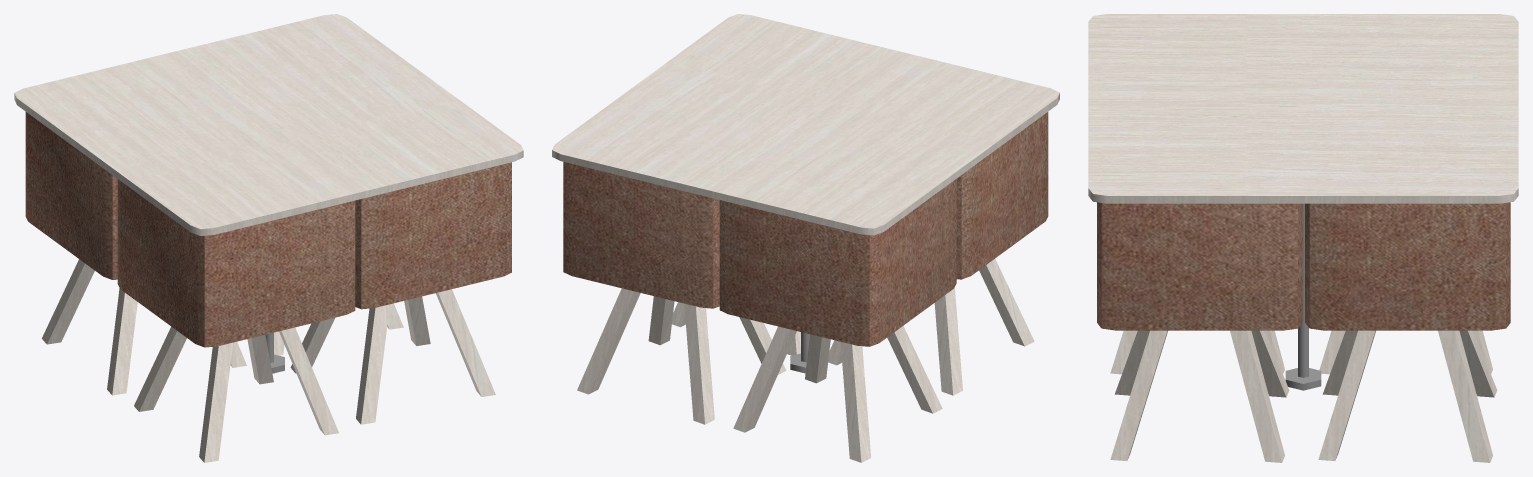
Rendered from CK-zhuozi0004-CJBZ.FBX.
The picture shows the model from 3 angles, left to right: view 1: azimuth 30°, elevation 25°; view 2: azimuth 150°, elevation 25°; view 3: azimuth 270°, elevation 25°; orthographic projection. The views are drawn at different scales.
Parts seen in each view (by area): view 1: CK-zhuozi0004-CJBZ; view 2: CK-zhuozi0004-CJBZ; view 3: CK-zhuozi0004-CJBZ.
Part boxes in pixels (x1,y1,x2,y2): CK-zhuozi0004-CJBZ: (14,14,523,462); CK-zhuozi0004-CJBZ: (552,14,1059,462); CK-zhuozi0004-CJBZ: (1088,14,1518,462).
Size of the model in its own units: 1.37 by 0.9733 by 1.37.
Materials: 3 (2 with a texture image).
